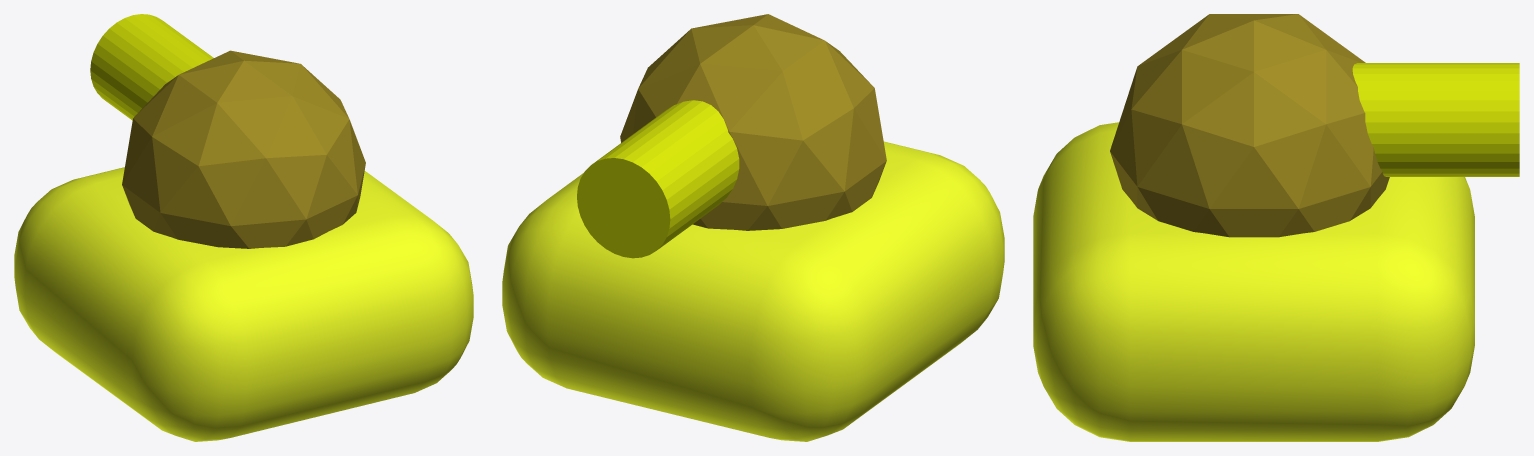
The model's file is enermy4.fbx.
3 renders of one model, left to right at view 1: azimuth 30°, elevation 25°; view 2: azimuth 150°, elevation 25°; view 3: azimuth 270°, elevation 25°, orthographic. The views are drawn at different scales.
Parts seen in each view (by area): view 1: 敌人坦克4, 棱角球.004, 柱体.004; view 2: 敌人坦克4, 棱角球.004, 柱体.004; view 3: 敌人坦克4, 棱角球.004, 柱体.004.
Part boxes in pixels (x1=…): 敌人坦克4: x1=14, y1=167, x2=473, y2=441; 棱角球.004: x1=122, y1=50, x2=365, y2=248; 柱体.004: x1=90, y1=14, x2=213, y2=120; 敌人坦克4: x1=502, y1=141, x2=1004, y2=441; 棱角球.004: x1=620, y1=14, x2=886, y2=230; 柱体.004: x1=577, y1=100, x2=739, y2=258; 敌人坦克4: x1=1033, y1=122, x2=1474, y2=441; 棱角球.004: x1=1110, y1=14, x2=1389, y2=237; 柱体.004: x1=1352, y1=63, x2=1519, y2=176.
Bounding box in the file's own units: 1 × 0.9015 × 1.1.
